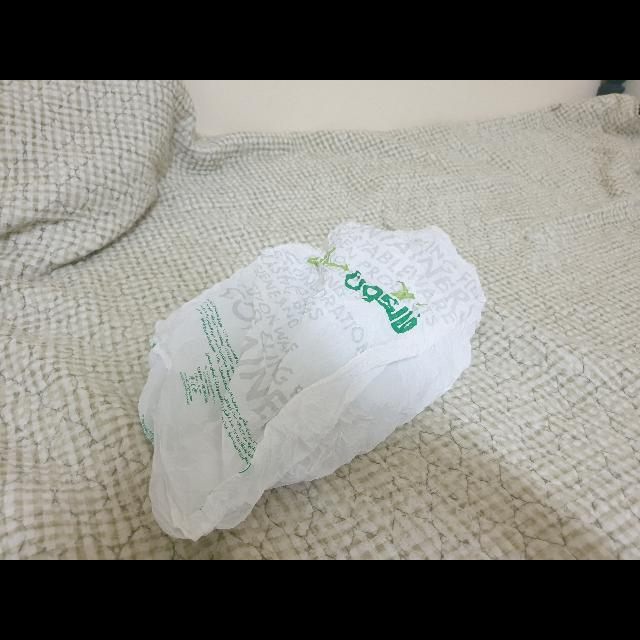plastic_bag: (128, 218, 488, 544)
